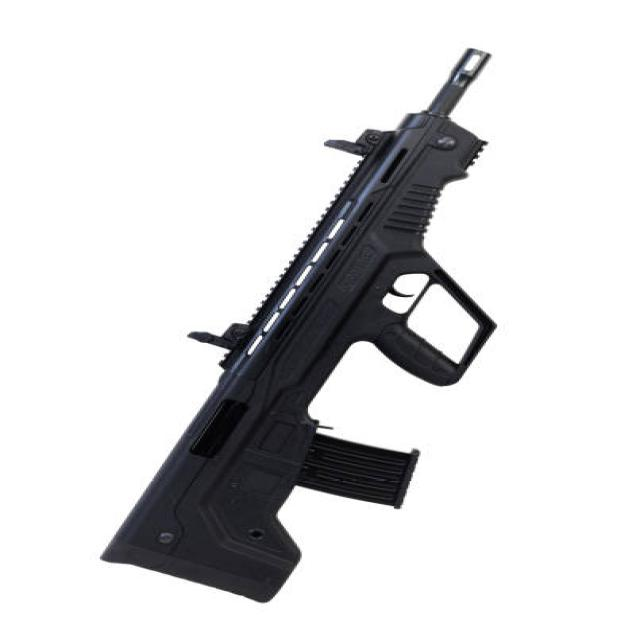rifle: (93, 40, 518, 625)
